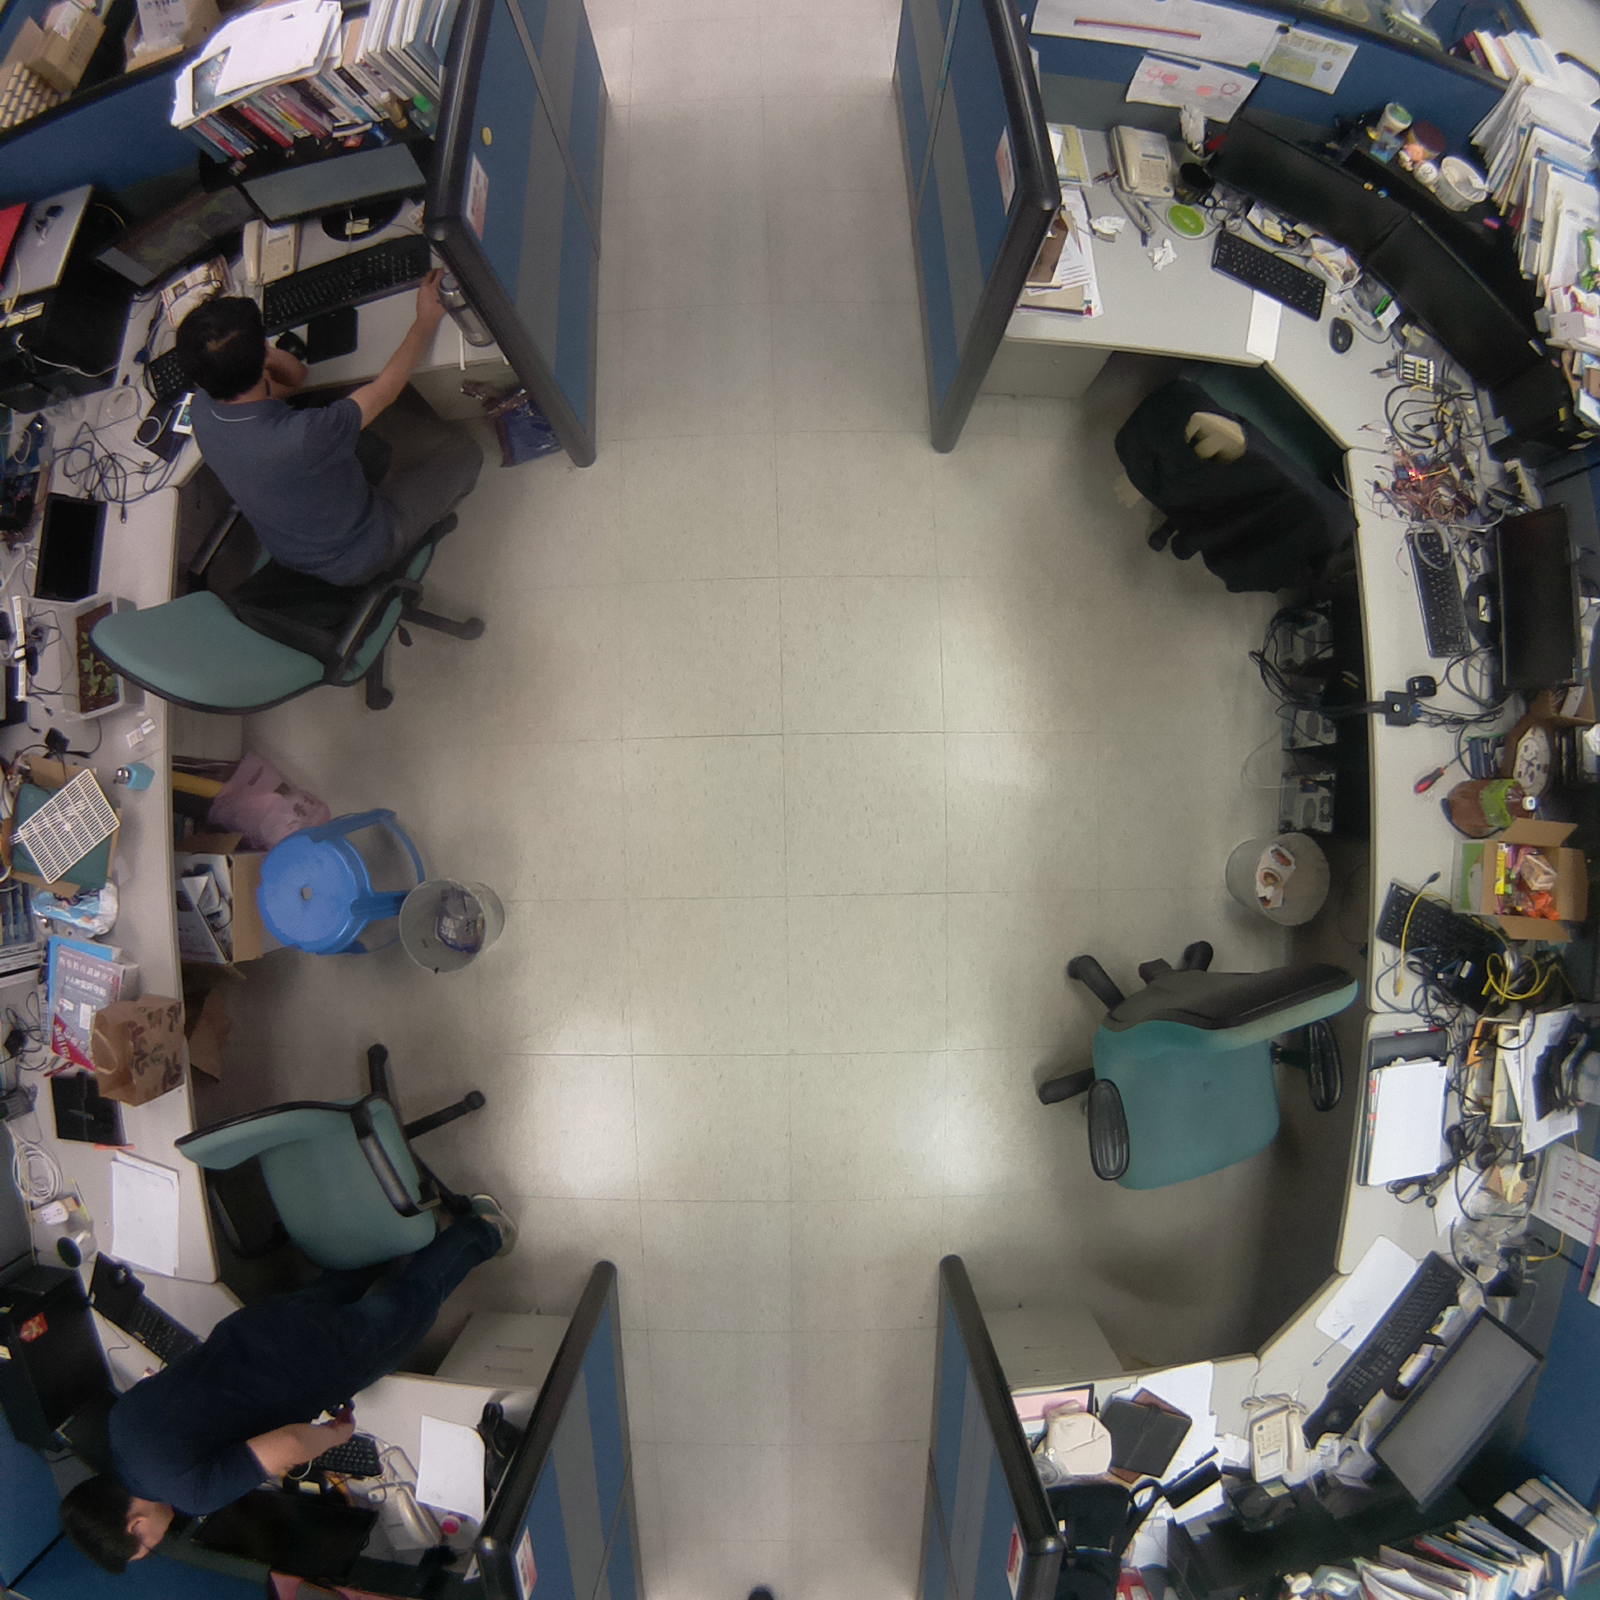chair: (1012, 909, 1373, 1214), (163, 1022, 514, 1278), (1109, 340, 1376, 614)
head: (51, 1472, 178, 1578), (174, 292, 276, 399)
sitting: (70, 267, 501, 734)
standing: (46, 1174, 518, 1600)
